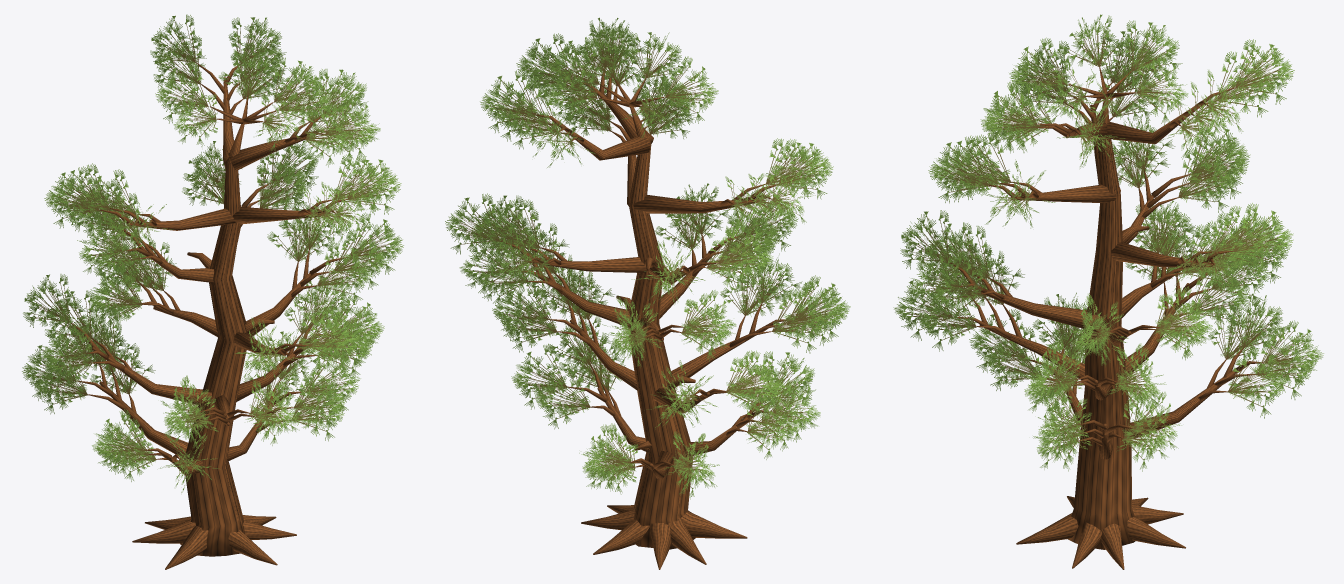
Rendered from WindsweptPine_LOD0.glb.
3 renders of one model, left to right at view 1: azimuth 30°, elevation 25°; view 2: azimuth 150°, elevation 25°; view 3: azimuth 270°, elevation 25°, orthographic. The views are drawn at different scales.
Visible parts, largest first — view 1: SM_WindsweptPine_Foliage_LOD0, SM_WindsweptPine_Bark_LOD0; view 2: SM_WindsweptPine_Foliage_LOD0, SM_WindsweptPine_Bark_LOD0; view 3: SM_WindsweptPine_Foliage_LOD0, SM_WindsweptPine_Bark_LOD0.
Boxes of the visible parts, x1=… form: SM_WindsweptPine_Foliage_LOD0: x1=22, y1=14, x2=403, y2=492; SM_WindsweptPine_Bark_LOD0: x1=71, y1=63, x2=348, y2=569; SM_WindsweptPine_Foliage_LOD0: x1=445, y1=17, x2=850, y2=499; SM_WindsweptPine_Bark_LOD0: x1=500, y1=68, x2=787, y2=569; SM_WindsweptPine_Foliage_LOD0: x1=893, y1=14, x2=1323, y2=471; SM_WindsweptPine_Bark_LOD0: x1=950, y1=67, x2=1263, y2=569.
Bounding box in the file's own units: 6.93 × 9.08 × 7.11.
2 materials, 2 textured.
